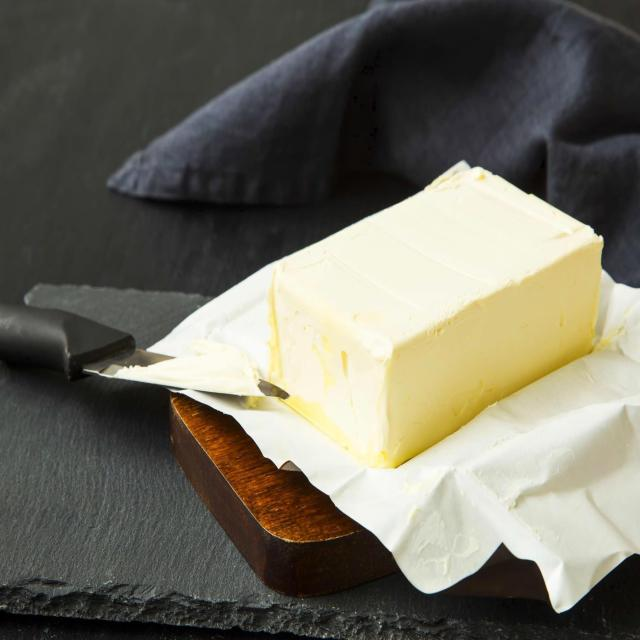Butter: (268, 164, 607, 472)
